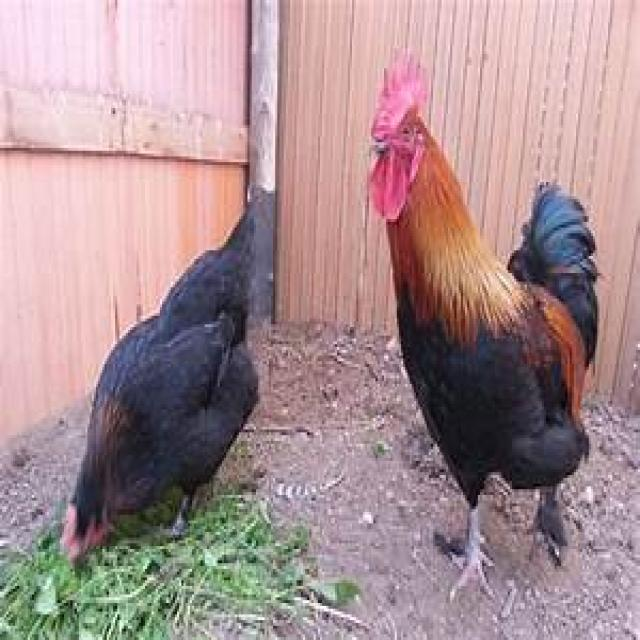animal: (332, 32, 622, 607), (31, 159, 281, 619)
